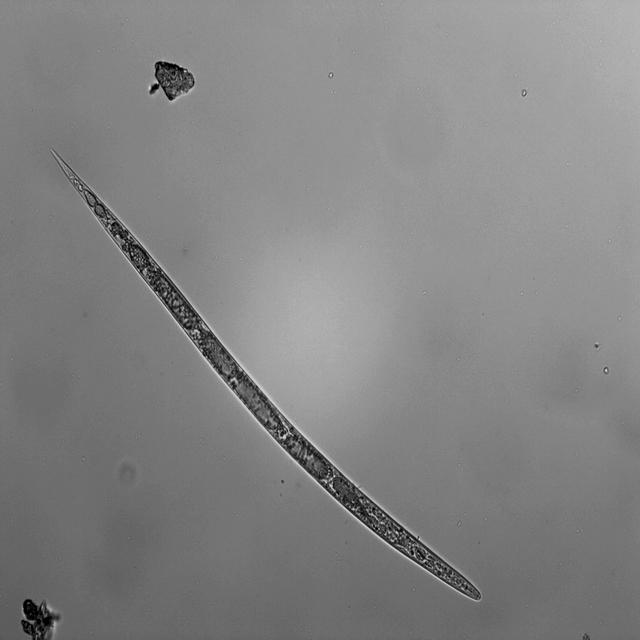Meloidogyne: (44, 139, 483, 606)
